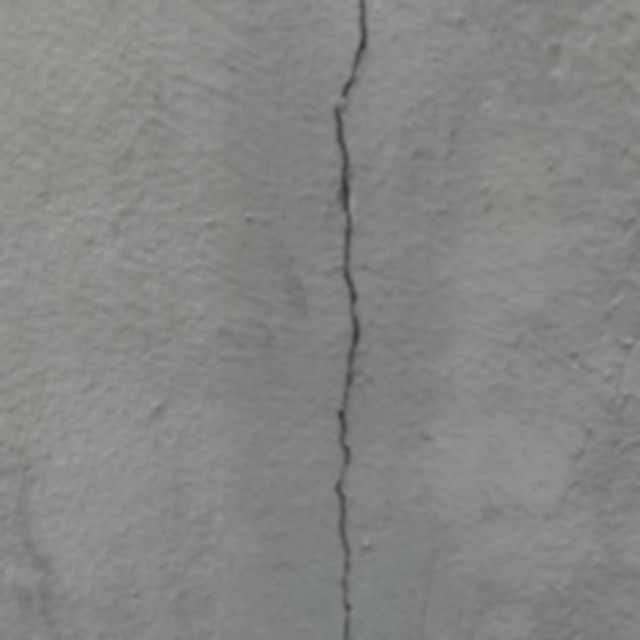SurfaceCrack: (283, 1, 409, 640)
